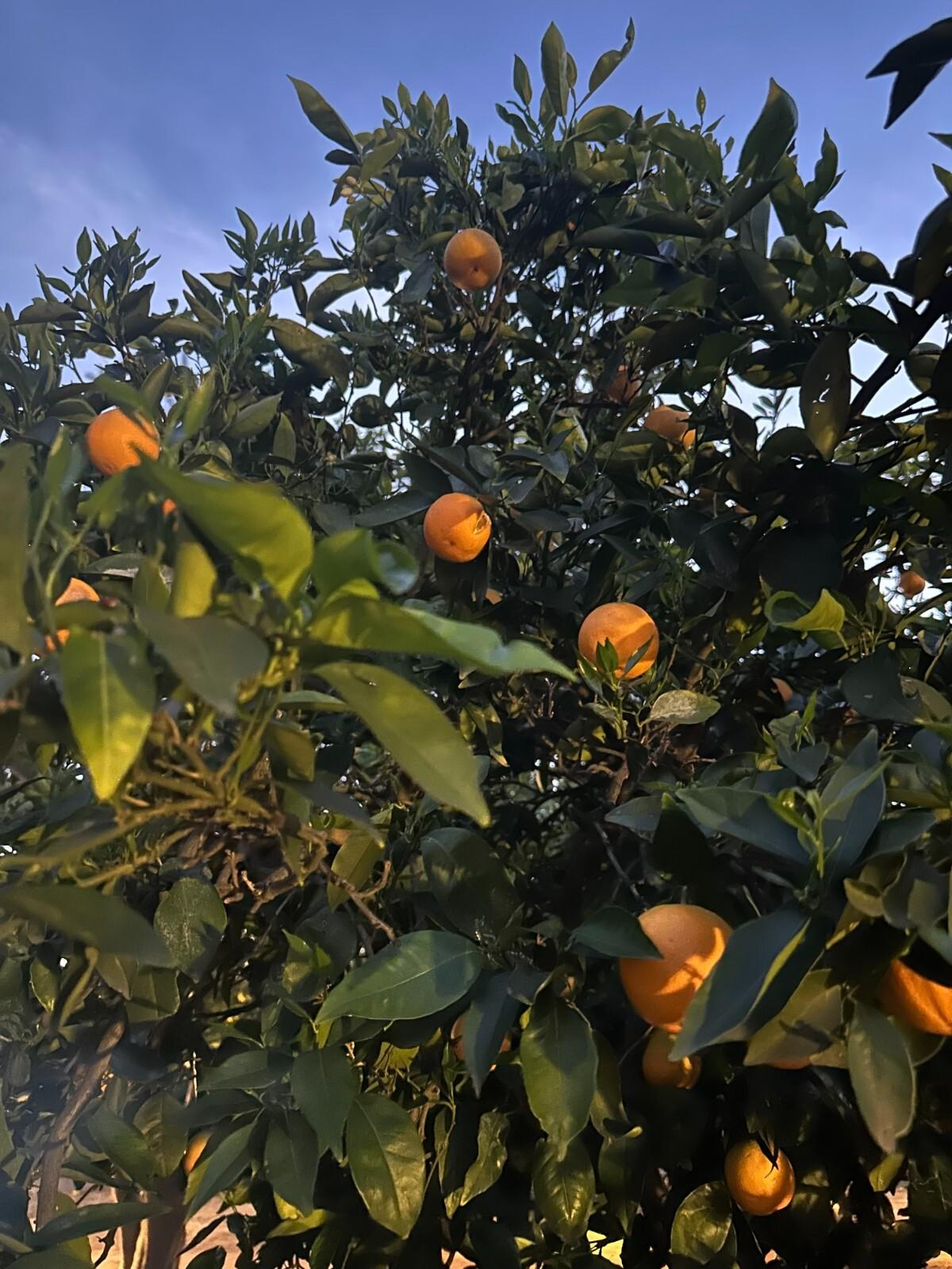orange: (619, 904, 734, 1034), (578, 601, 659, 679), (26, 577, 101, 656), (723, 1138, 795, 1216), (879, 960, 951, 1035), (83, 408, 160, 476), (424, 493, 491, 563), (451, 1009, 513, 1070), (643, 1030, 703, 1091), (443, 228, 501, 291), (641, 405, 696, 450), (604, 364, 641, 404), (182, 1129, 211, 1176), (899, 569, 924, 597), (768, 1055, 813, 1069), (162, 497, 179, 534)
